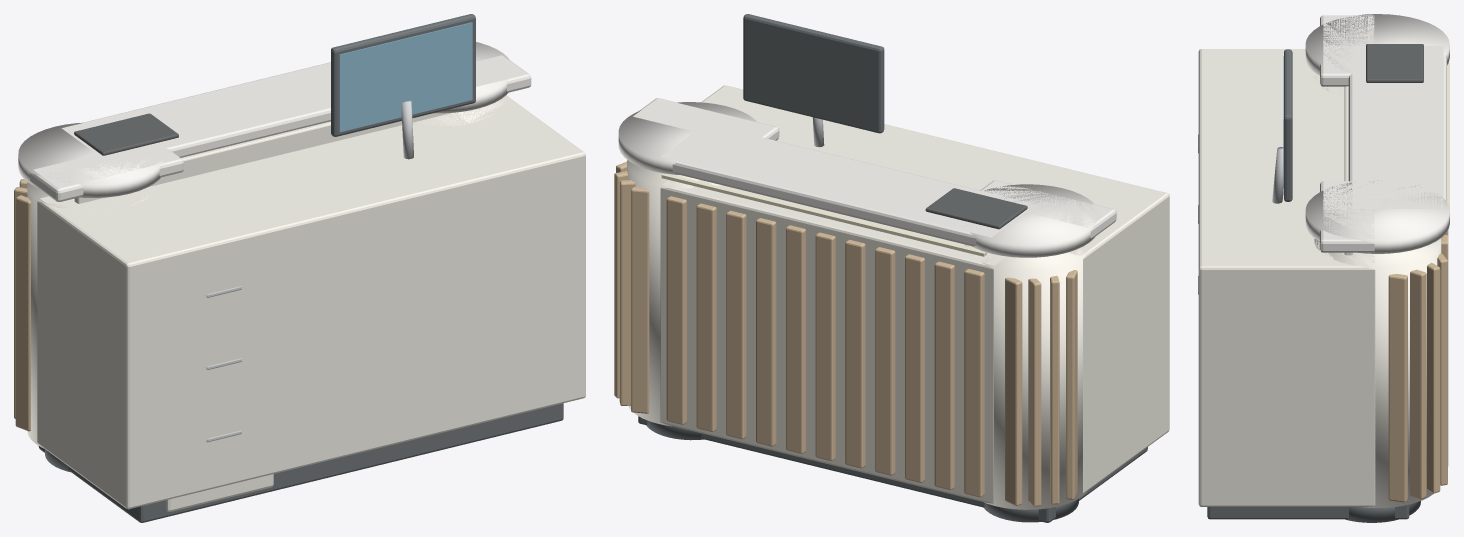
Rendered from ReceptionDesk.fbx.
3 views of the same model, side by side, from view 1: azimuth 30°, elevation 25°; view 2: azimuth 150°, elevation 25°; view 3: azimuth 270°, elevation 25° (orthographic). The views are drawn at different scales.
Parts seen in each view (by area): view 1: ReceptionDesk_Linen, ReceptionDesk_Quartz, ReceptionDesk_ScreenUI, ReceptionDesk_Charcoal, ReceptionDesk_Oak, ReceptionDesk_Rubber, ReceptionDesk_BrushedSteel; view 2: ReceptionDesk_Linen, ReceptionDesk_Oak, ReceptionDesk_Quartz, ReceptionDesk_Charcoal, ReceptionDesk_Rubber, ReceptionDesk_LampLight; view 3: ReceptionDesk_Linen, ReceptionDesk_Quartz, ReceptionDesk_Oak, ReceptionDesk_Charcoal, ReceptionDesk_Rubber, ReceptionDesk_BrushedSteel, ReceptionDesk_LampLight.
Boxes of the visible parts, x1,y1,x2,y2 form: ReceptionDesk_Linen: (27,95,585,511); ReceptionDesk_Quartz: (18,42,531,201); ReceptionDesk_ScreenUI: (339,22,472,132); ReceptionDesk_Charcoal: (38,14,563,522); ReceptionDesk_Oak: (14,179,30,431); ReceptionDesk_Rubber: (74,113,178,155); ReceptionDesk_BrushedSteel: (206,100,413,442); ReceptionDesk_Linen: (627,85,1169,509); ReceptionDesk_Oak: (614,161,1077,506); ReceptionDesk_Quartz: (618,98,1116,257); ReceptionDesk_Charcoal: (638,14,1147,522); ReceptionDesk_Rubber: (925,188,1027,229); ReceptionDesk_LampLight: (661,173,986,256); ReceptionDesk_Linen: (1198,49,1441,507); ReceptionDesk_Quartz: (1305,14,1449,253); ReceptionDesk_Oak: (1388,230,1448,502); ReceptionDesk_Charcoal: (1207,49,1420,522); ReceptionDesk_Rubber: (1366,44,1423,82); ReceptionDesk_BrushedSteel: (1198,134,1283,294); ReceptionDesk_LampLight: (1447,63,1449,224).
Bounding box in the file's own units: 186 × 146 × 87.2.
